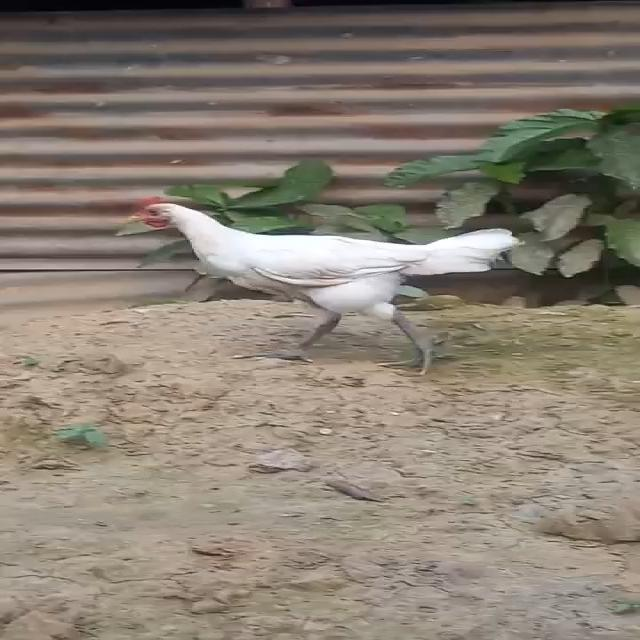walking: (121, 188, 526, 372)
